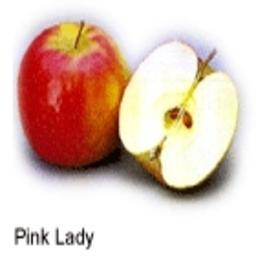apple: (119, 37, 240, 192), (14, 20, 130, 173)
